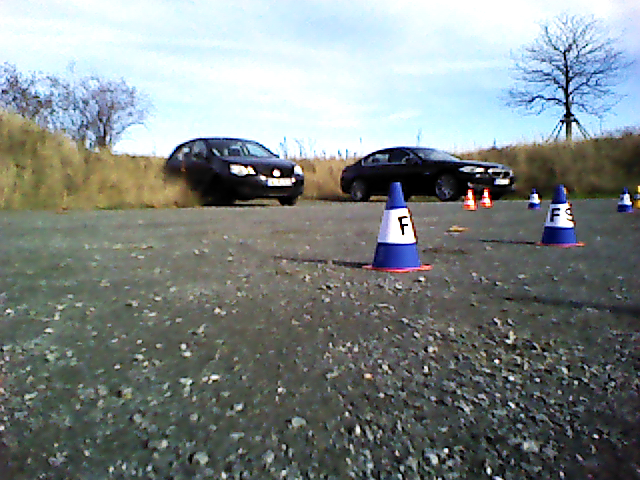bluecone: (377, 182, 419, 268), (545, 185, 576, 245)
orangeconesmall: (463, 190, 475, 209), (481, 187, 491, 208)
